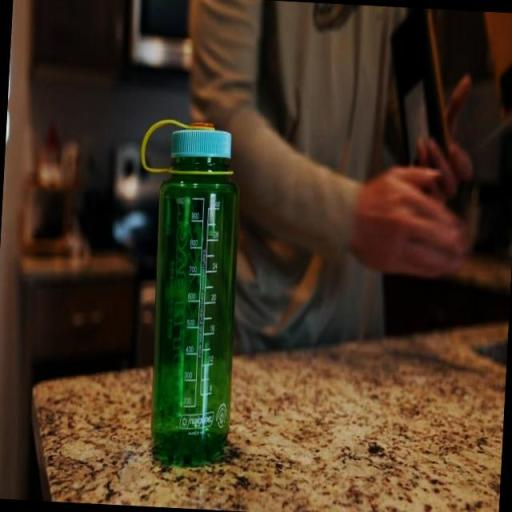bottle: (146, 123, 245, 465)
